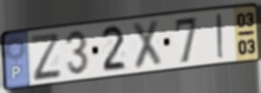2: (100, 23, 128, 74)
3: (64, 28, 91, 78)
7: (173, 17, 200, 65)
I: (214, 12, 226, 61)
X: (130, 18, 164, 72)
Z: (28, 32, 64, 83)
